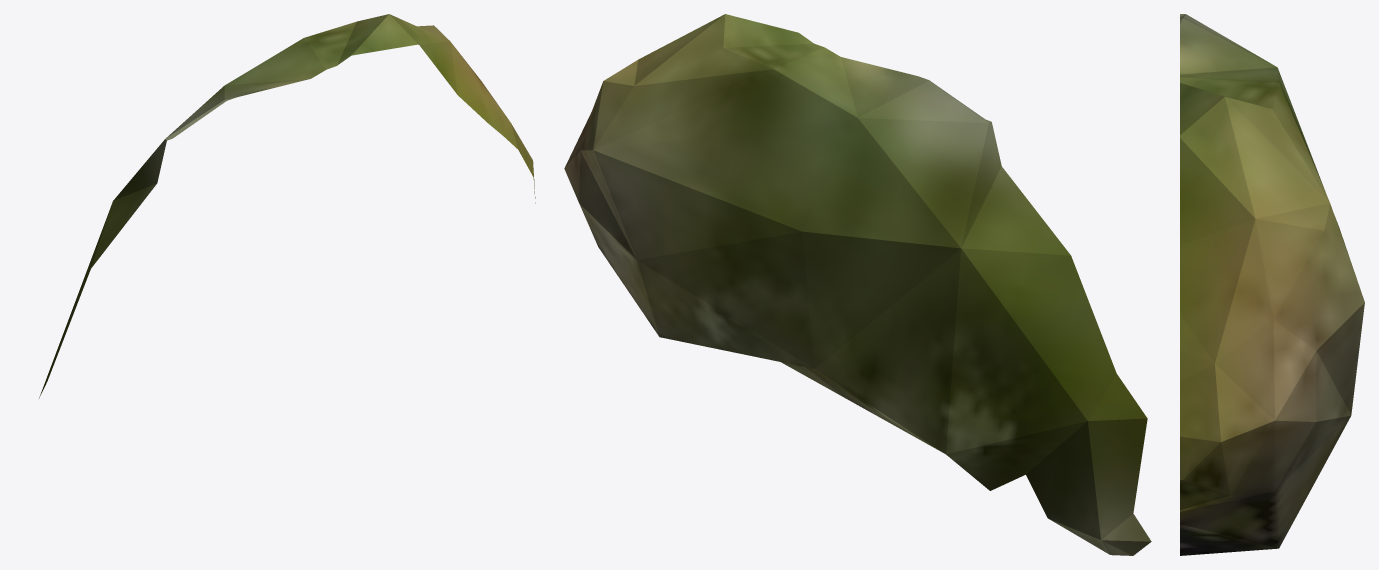
3 views of the same model, side by side, from view 1: azimuth 30°, elevation 25°; view 2: azimuth 150°, elevation 25°; view 3: azimuth 270°, elevation 25° (orthographic). The views are drawn at different scales.
Size of the model in its own units: 0.2006 by 0.1592 by 0.0435.
1 material, 1 textured.
